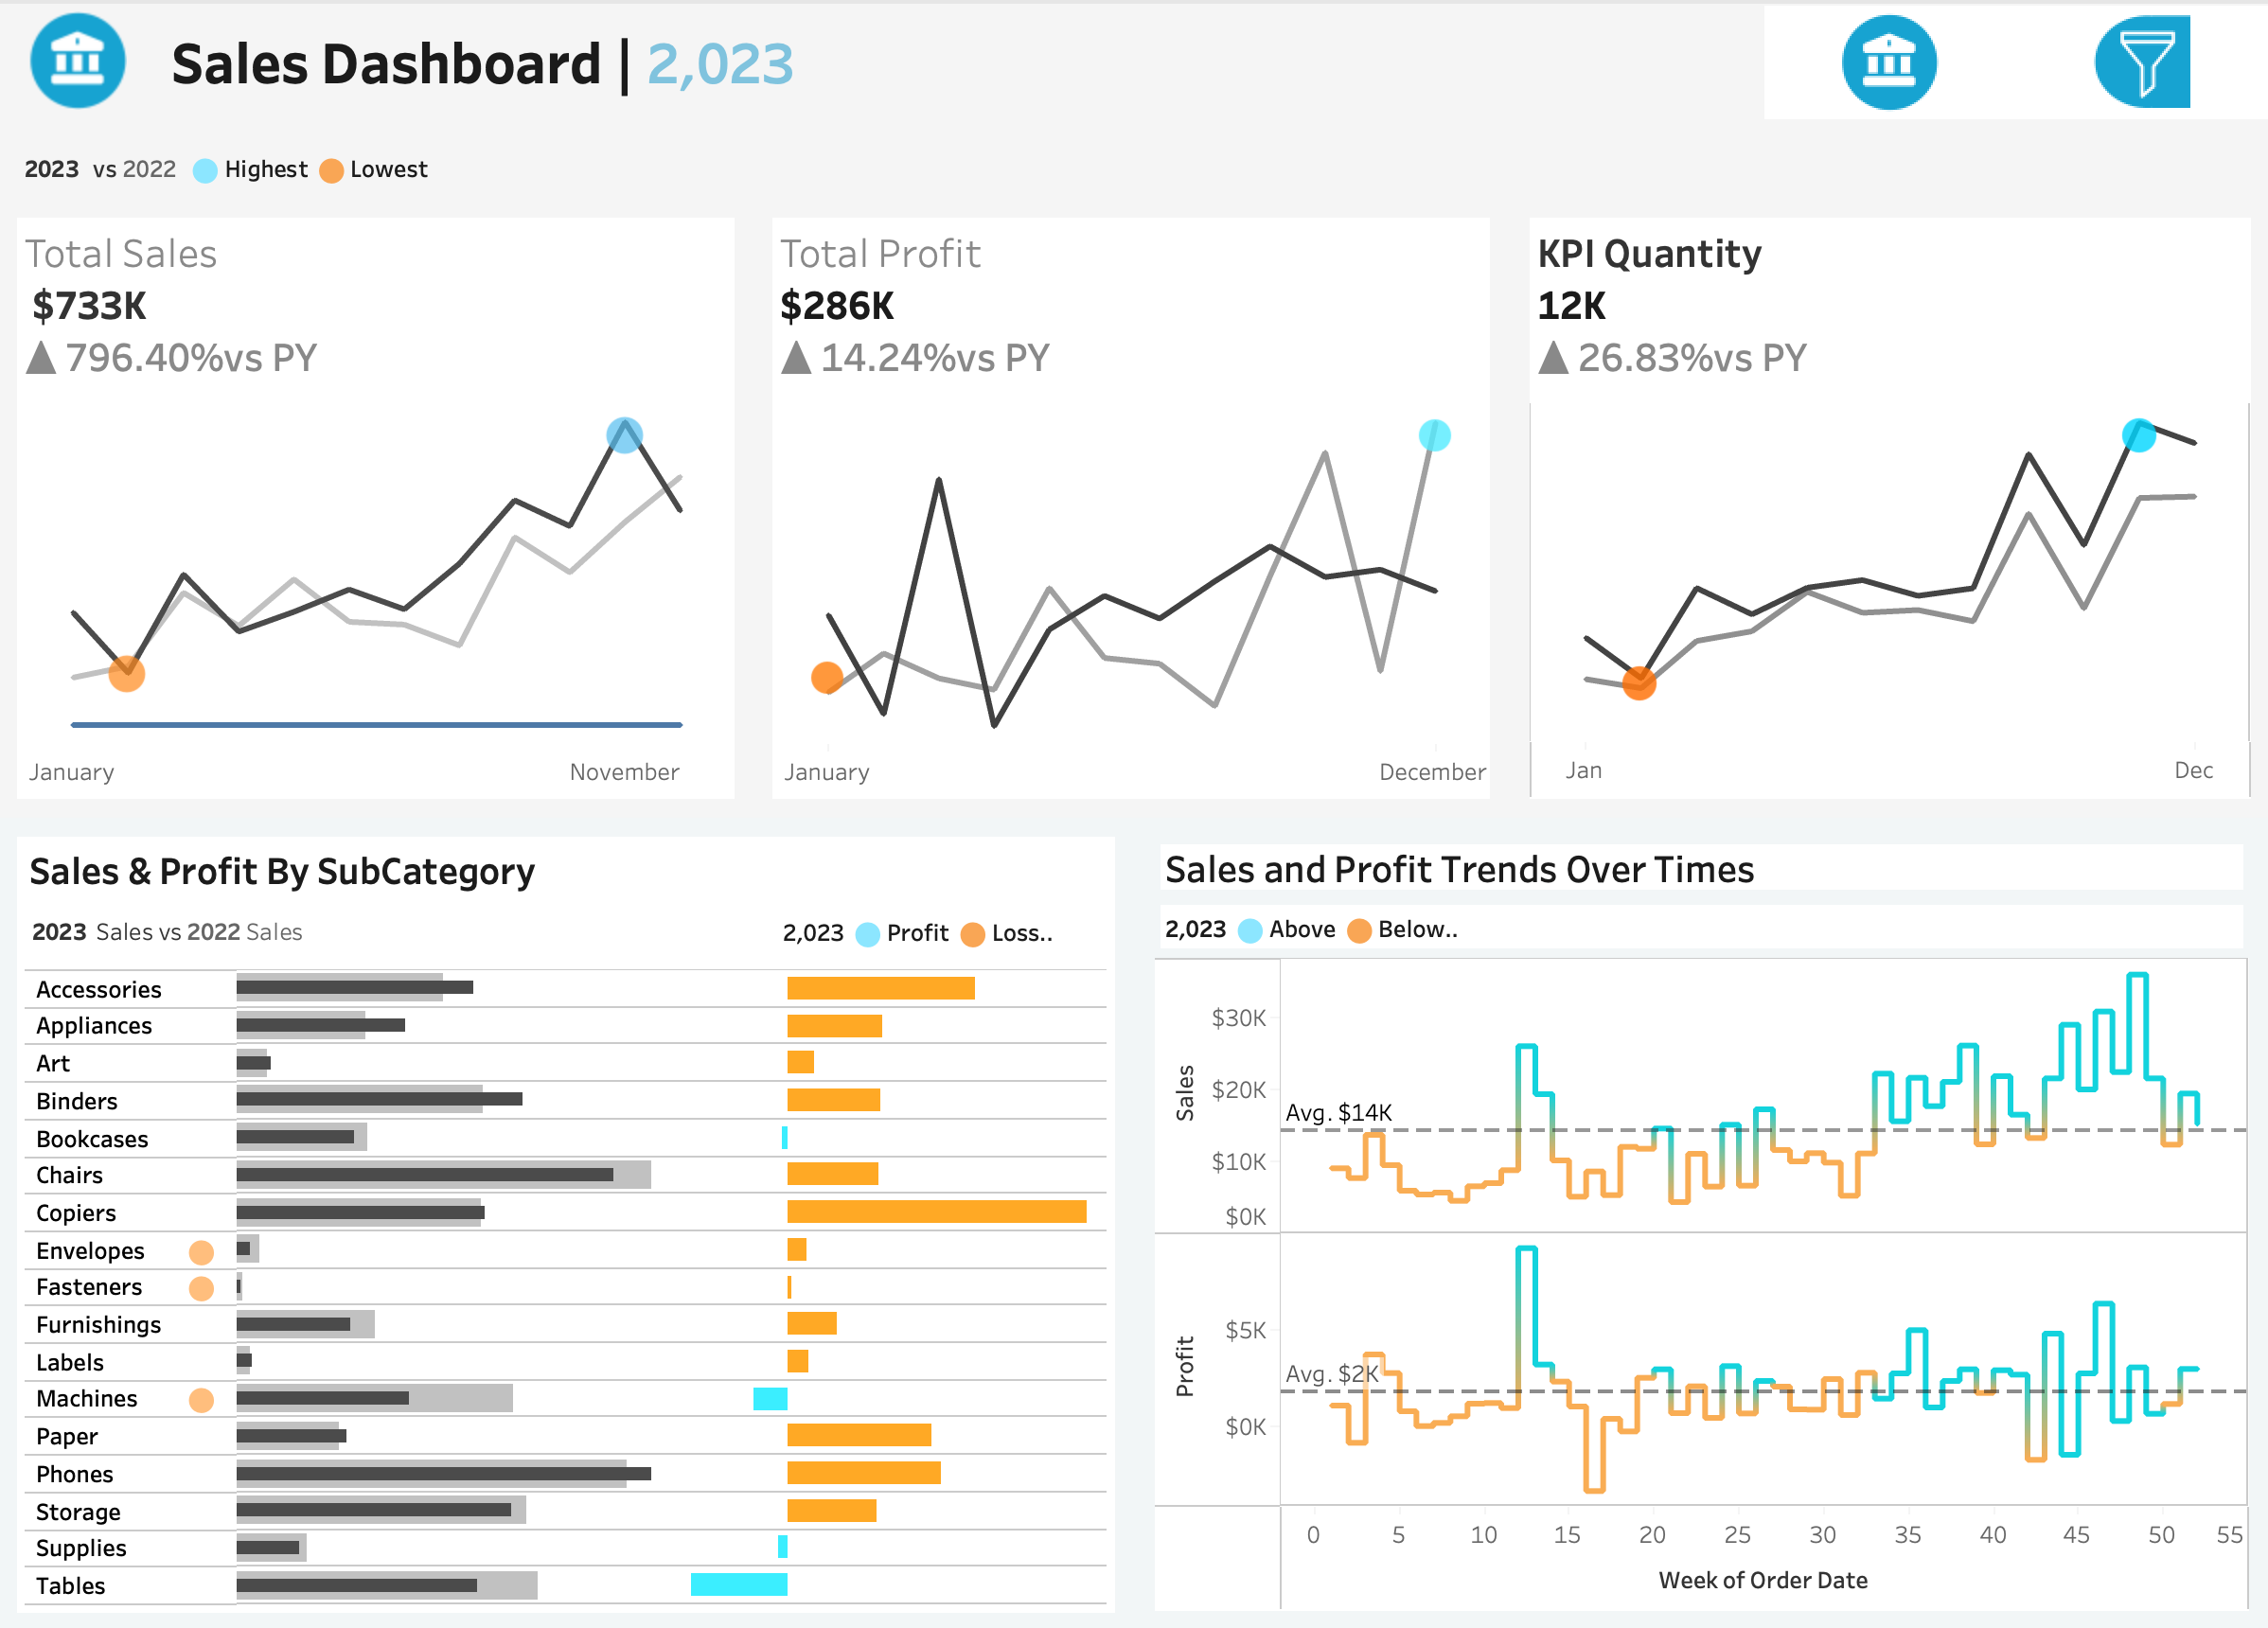

The page's visual inventory and layout, read from the dashboard file:
{"tool":"tableau","page":{"name":"Sales Dashboard","canvas":[1000,1000],"units":"permille","ordinal":0},"visuals":[{"type":"image","param":"/Users/kartikdineshsonawani/Desktop/Tabelue project /projects/sales-dashboard-pr","box":[0,0,70.8,72]},{"type":"text","box":[70.8,0,929.2,72]},{"type":"dashboard-object","box":[777.5,1.2,74.2,69.6]},{"type":"dashboard-object","box":[851.7,1.2,74.2,69.6]},{"type":"dashboard-object","box":[925.8,1.2,73.3,69.6]},{"type":"worksheet","title":"Legend KPI","mark":"Automatic","box":[0,72,1000,31.2]},{"type":"text","box":[785.8,86.4,204.2,36]},{"type":"worksheet","title":"KPI sales","mark":"Automatic","rows":["Calculation_289778544999075844"],"cols":["Order Date"],"box":[0,103.2,332.8,380.6]},{"type":"worksheet","title":"KPI Profit","mark":"Line","rows":["Calculation_496944127927660549"],"cols":["Order Date"],"box":[332.8,103.2,332.8,380.6]},{"type":"worksheet","title":"KPI Quantity","mark":"Line","rows":["Calculation_788481835303960579"],"cols":["Order Date"],"box":[665.5,103.2,334.4,380.6]},{"type":"parameter","param":"[Parameters].[Parameter 1]","box":[785.8,122.4,204.2,128.4]},{"type":"text","box":[785.8,250.9,204.2,44.4]},{"type":"filter","title":"KPI sales","param":"[federated.0a99i9s1mphe241d6ax4j08fql97].[none:Category:nk]","box":[785.8,295.3,204.2,62.4]},{"type":"filter","title":"KPI sales","param":"[federated.0a99i9s1mphe241d6ax4j08fql97].[none:Sub-Category:nk]","box":[785.8,357.7,204.2,146.5]},{"type":"text","box":[8.3,495.8,483.3,40.8]},{"type":"text","box":[508.3,495.8,483.3,37.9]},{"type":"text","box":[785.8,504.2,204.2,38.4]},{"type":"text","box":[508.3,533.7,483.3,37.9]},{"type":"worksheet","title":"Legend subcategory","mark":"Automatic","box":[8.3,536.6,331.7,38.4]},{"type":"text","box":[340,536.6,151.7,38.4]},{"type":"filter","title":"KPI sales","param":"[federated.0a99i9s1mphe241d6ax4j08fql97].[none:Region:nk]","box":[785.8,542.6,204.2,62.4]},{"type":"worksheet","title":"Weekly trends","mark":"Automatic","rows":["Calculation_289778544983592960","Calculation_496944127930953735"],"cols":["Order Date"],"box":[508.3,571.6,483.3,416.4]},{"type":"worksheet","title":"Sub Category Comparison","mark":"Bar","rows":["Sub-Category","Calculation_971510938959560704"],"cols":["CY Sales (copy)_289778544984846337","Calculation_289778544983592960","Calculation_496944127930953735"],"box":[8.3,575,483.3,412.9]},{"type":"filter","title":"KPI sales","param":"[federated.0a99i9s1mphe241d6ax4j08fql97].[none:State:nk]","box":[785.8,605,204.2,62.4]},{"type":"filter","title":"KPI sales","param":"[federated.0a99i9s1mphe241d6ax4j08fql97].[none:City:nk]","box":[785.8,667.4,204.2,62.4]}]}

Visuals, with their boxes on the dashboard's canvas, which has no fixed pixel size, in thousandths of its width and height (x1, y1, x2, y2). These are canvas units, not pixel positions in the 2268x1628 screenshot, which may show the page scaled, cropped or inside an application window:
image: 0 0 71 72
text: 71 0 1000 72
dashboard-object: 778 1 852 71
dashboard-object: 852 1 926 71
dashboard-object: 926 1 999 71
"Legend KPI" worksheet: 0 72 1000 103
text: 786 86 990 122
"KPI sales" worksheet: 0 103 333 484
"KPI Profit" worksheet (Line marks): 333 103 666 484
"KPI Quantity" worksheet (Line marks): 666 103 1000 484
parameter: 786 122 990 251
text: 786 251 990 295
"KPI sales" filter: 786 295 990 358
"KPI sales" filter: 786 358 990 504
text: 8 496 492 537
text: 508 496 992 534
text: 786 504 990 543
text: 508 534 992 572
"Legend subcategory" worksheet: 8 537 340 575
text: 340 537 492 575
"KPI sales" filter: 786 543 990 605
"Weekly trends" worksheet: 508 572 992 988
"Sub Category Comparison" worksheet (Bar marks): 8 575 492 988
"KPI sales" filter: 786 605 990 667
"KPI sales" filter: 786 667 990 730
